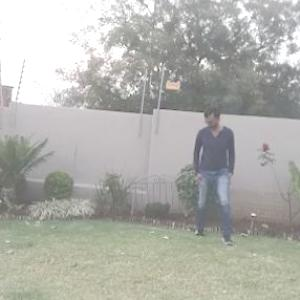follow: (196, 98, 245, 249)
